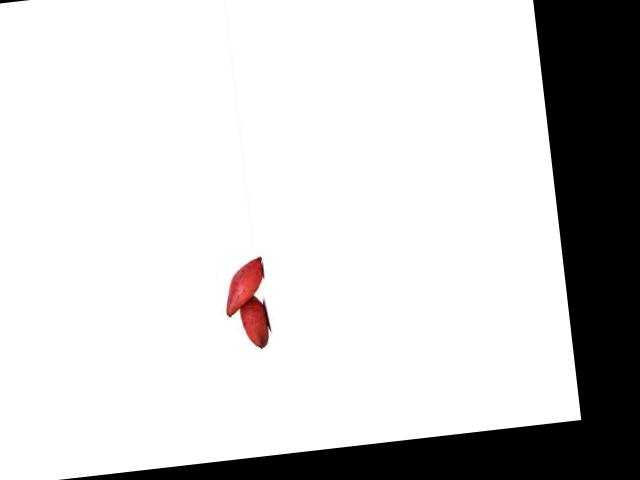sweet_potato: (234, 289, 271, 352)
